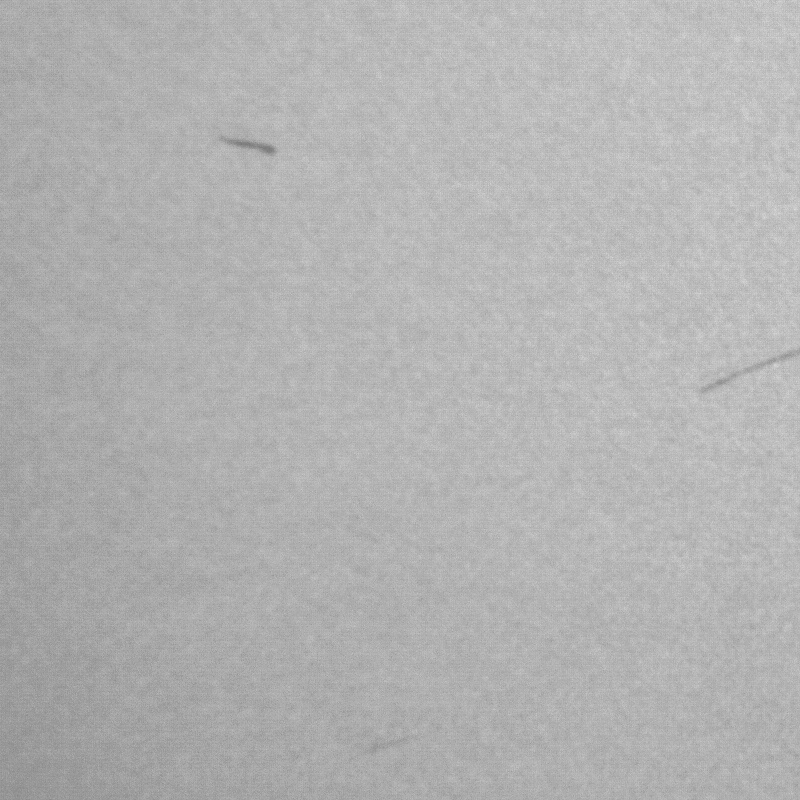defect: (704, 348, 800, 390), (372, 731, 431, 754), (223, 138, 290, 157)
